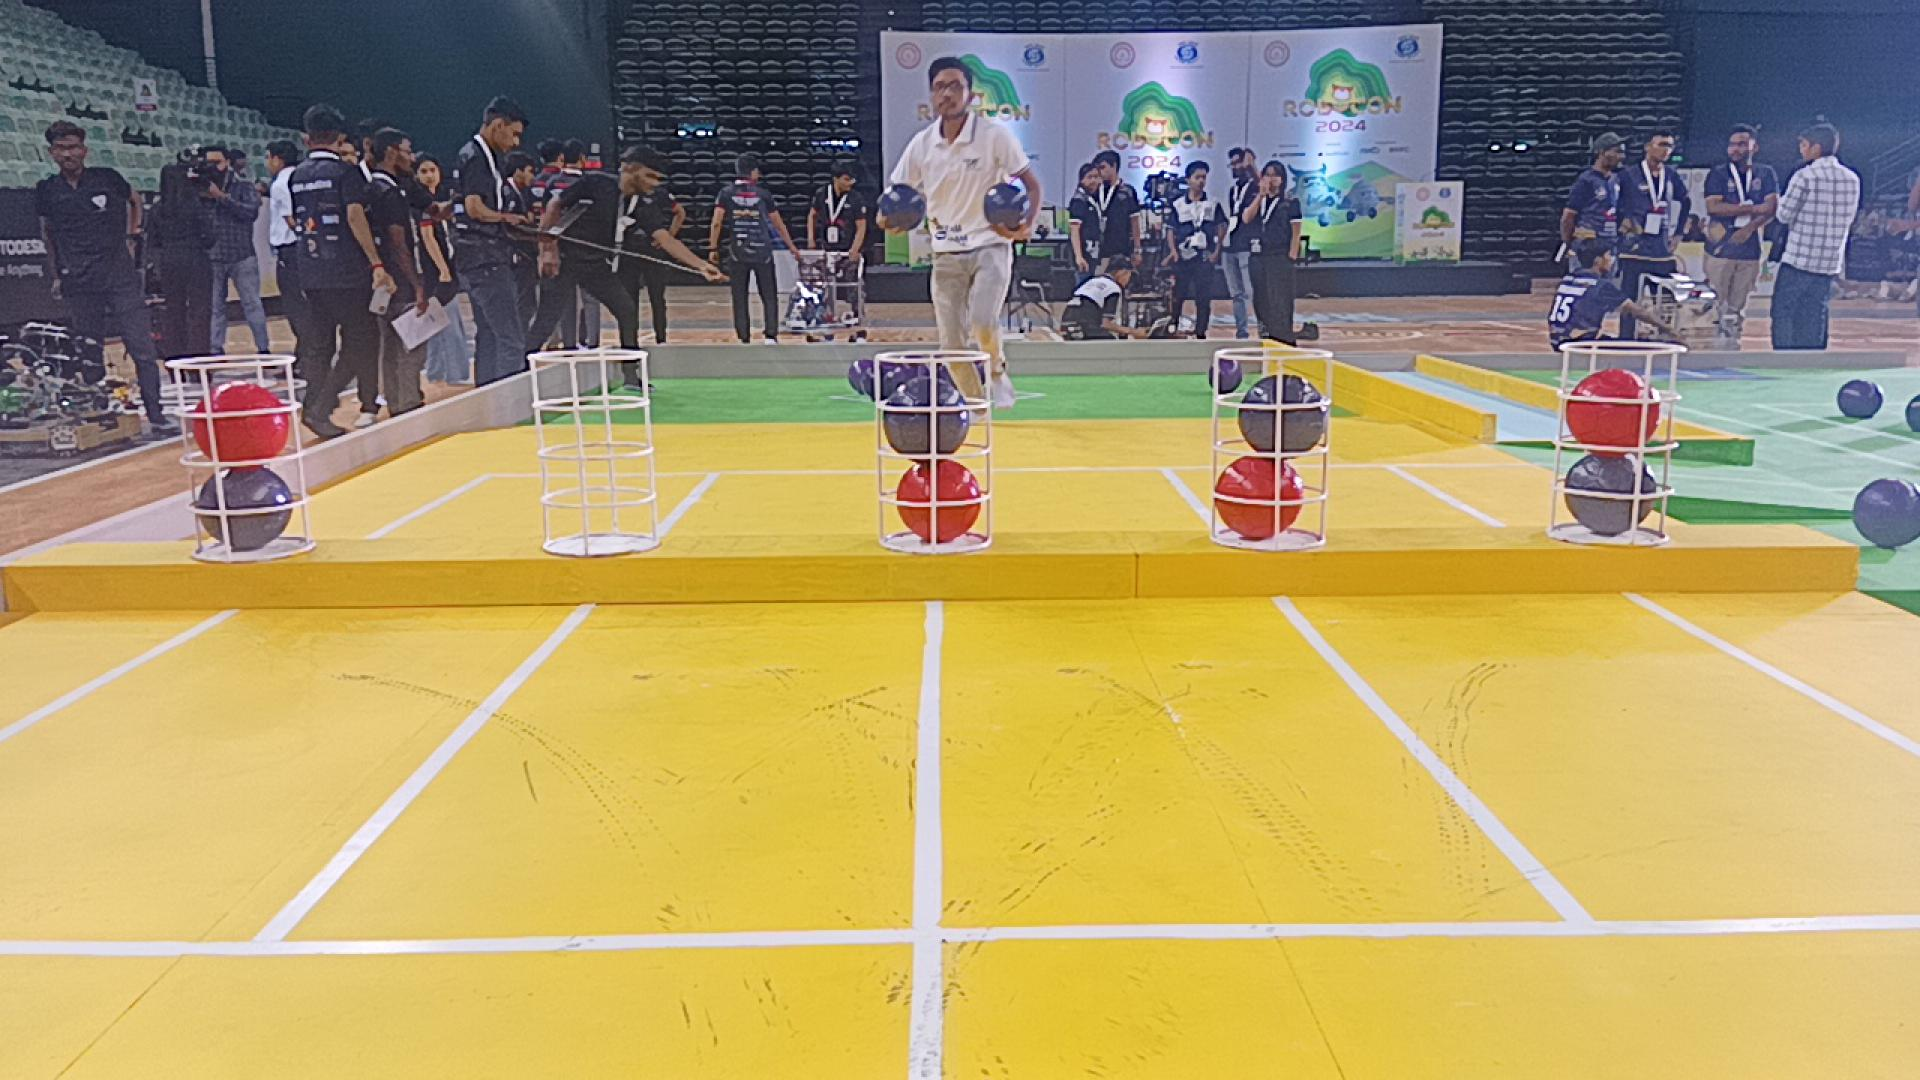dhoka: (195, 465, 293, 551), (1564, 454, 1658, 534), (1237, 375, 1328, 454), (881, 375, 972, 454)
laale: (191, 382, 289, 462), (1215, 458, 1305, 541), (897, 462, 982, 543), (1568, 372, 1658, 448)
